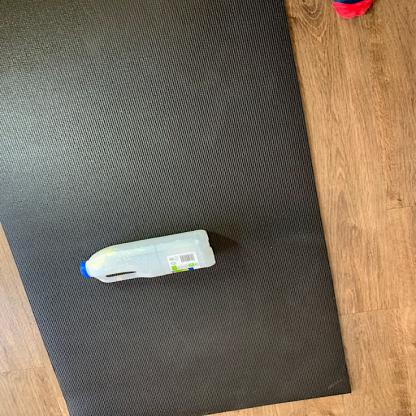trash: (75, 230, 216, 289)
